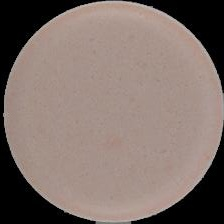50090-0143: (0, 0, 224, 224)
